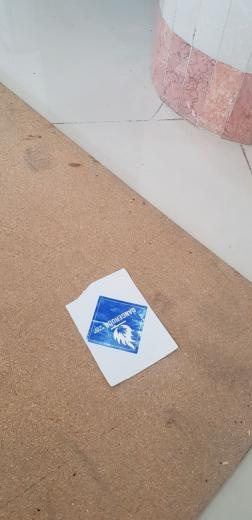Dangerous when wet: (86, 296, 147, 355)
